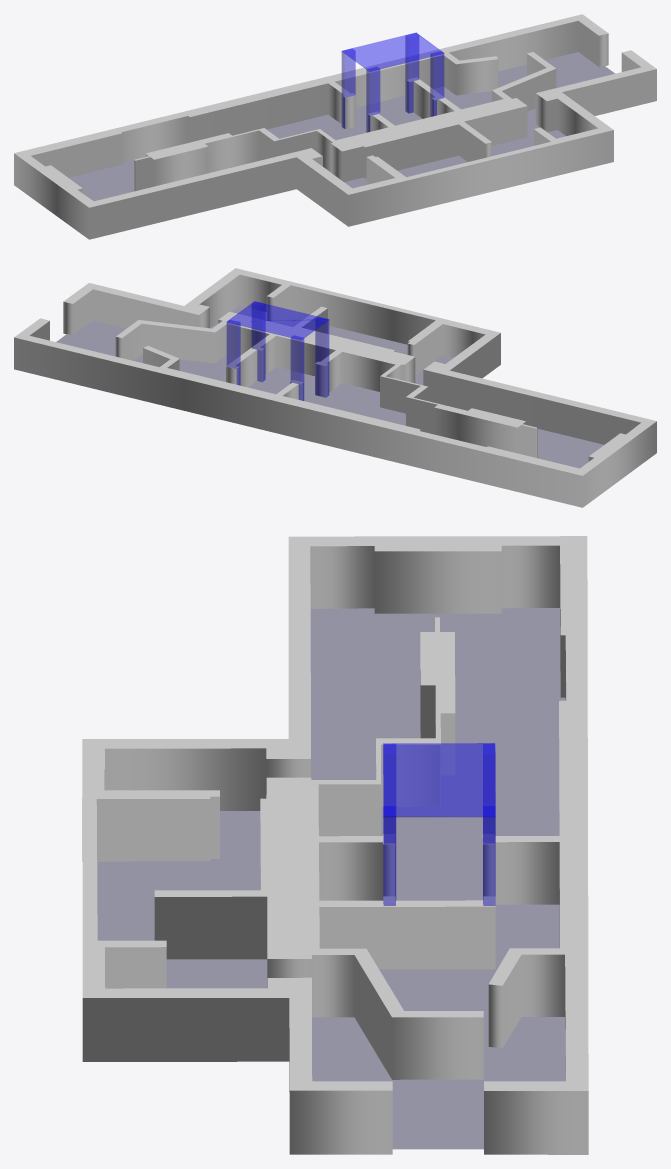
3 renders of one model, top to bottom at view 1: azimuth 30°, elevation 25°; view 2: azimuth 150°, elevation 25°; view 3: azimuth 270°, elevation 25°, orthographic. The views are drawn at different scales.
Parts seen in each view (by area): view 1: perimetro_esterno, tetto, sala01, sala33, sala34, sala41, tetto002, tetto003, tetto004, sala51, sala13, sala11; view 2: perimetro_esterno, tetto, sala35, sala32, sala01, tetto004, sala41, sala51, tetto003, tetto002, sala13; view 3: perimetro_esterno, sala34, sala01, sala32, sala33, tetto, sala14, sala35, sala51, sala31, sala41, sala12 (+5 smaller).
Part boxes in pixels (left/top/right/bottom): perimetro_esterno: left=14, top=14, right=656, bottom=239; tetto: left=342, top=32, right=444, bottom=116; sala01: left=498, top=52, right=614, bottom=128; sala33: left=68, top=160, right=134, bottom=201; sala34: left=267, top=114, right=360, bottom=140; sala41: left=352, top=97, right=421, bottom=133; tetto002: left=405, top=33, right=419, bottom=113; tetto003: left=341, top=49, right=355, bottom=128; tetto004: left=366, top=67, right=380, bottom=132; sala51: left=398, top=86, right=491, bottom=109; sala13: left=408, top=155, right=467, bottom=174; sala11: left=512, top=126, right=565, bottom=148; perimetro_esterno: left=14, top=268, right=656, bottom=507; tetto: left=227, top=301, right=328, bottom=381; sala35: left=311, top=383, right=405, bottom=425; sala32: left=537, top=429, right=603, bottom=468; sala01: left=56, top=320, right=125, bottom=356; tetto004: left=315, top=317, right=329, bottom=397; sala41: left=248, top=367, right=318, bottom=402; sala51: left=134, top=355, right=236, bottom=381; tetto003: left=290, top=336, right=304, bottom=400; tetto002: left=226, top=320, right=240, bottom=385; sala13: left=331, top=328, right=392, bottom=347; perimetro_esterno: left=82, top=536, right=588, bottom=1154; sala34: left=441, top=723, right=559, bottom=900; sala01: left=312, top=1017, right=565, bottom=1149; sala32: left=310, top=608, right=436, bottom=723; sala33: left=436, top=608, right=565, bottom=723; tetto: left=383, top=743, right=495, bottom=905; sala14: left=97, top=856, right=260, bottom=902; sala35: left=381, top=807, right=441, bottom=900; sala51: left=379, top=966, right=498, bottom=1066; sala31: left=311, top=723, right=420, bottom=779; sala41: left=495, top=904, right=559, bottom=965; sala12: left=166, top=959, right=267, bottom=988.
Size of the model in its own units: 9.81 by 1.27 by 3.78.
